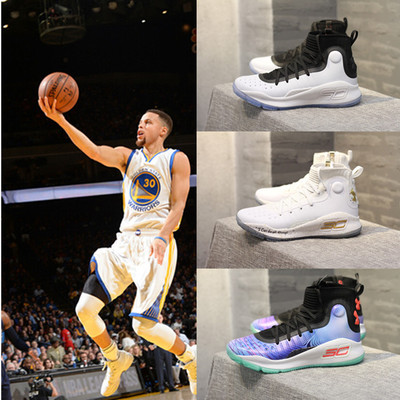ball: (38, 72, 79, 113)
